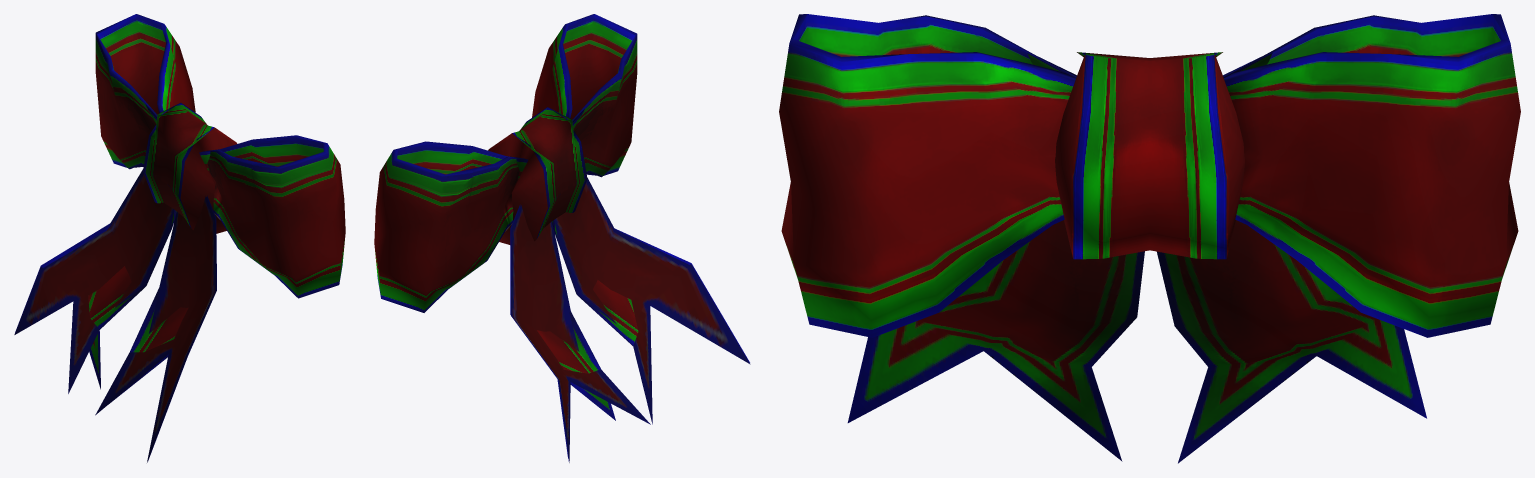
The picture shows the model from 3 angles, left to right: view 1: azimuth 30°, elevation 25°; view 2: azimuth 150°, elevation 25°; view 3: azimuth 270°, elevation 25°; orthographic projection. The views are drawn at different scales.
Visible parts, largest first — view 1: F1203; view 2: F1203; view 3: F1203.
Part boxes in pixels (<box>): F1203: <box>14,14,345,462</box>; F1203: <box>374,14,750,462</box>; F1203: <box>779,14,1520,463</box>.
Bounding box in the file's own units: 0.2647 × 0.3632 × 0.4394.
